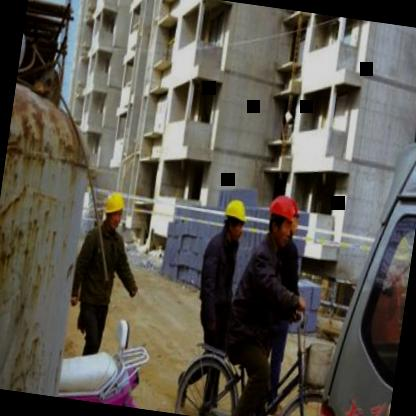helmet: (260, 188, 302, 250), (219, 194, 250, 244), (98, 188, 129, 233)
